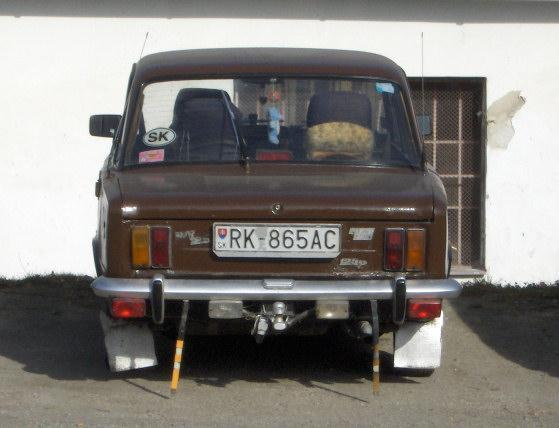placa de veiculo: (201, 213, 344, 268)
